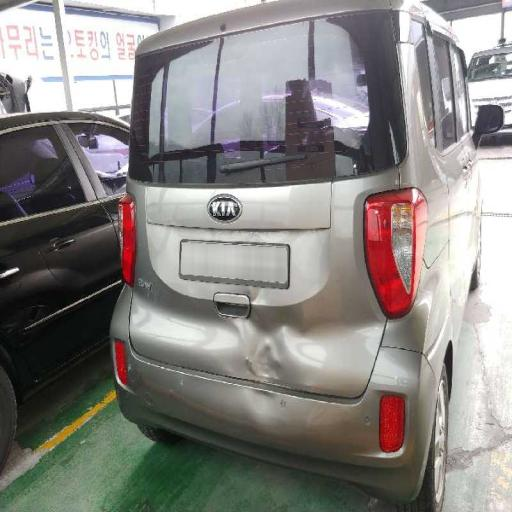broken: (147, 185, 411, 459)
